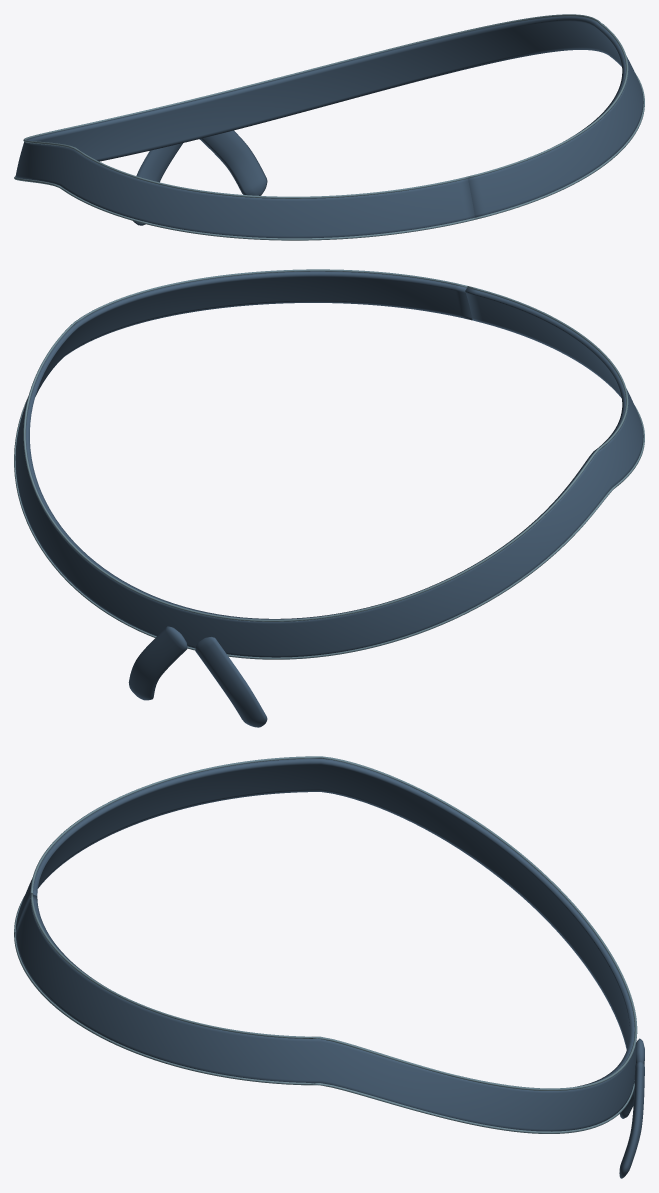
File: Feminine-headband-headgear.glb
3 renders of one model, top to bottom at view 1: azimuth 30°, elevation 25°; view 2: azimuth 150°, elevation 25°; view 3: azimuth 270°, elevation 25°, orthographic. The views are drawn at different scales.
Parts seen in each view (by area): view 1: 226 headgear / Headwear / fabric226, 226 headgear / Headwear / seam226; view 2: 226 headgear / Headwear / fabric226, 226 headgear / Headwear / seam226; view 3: 226 headgear / Headwear / fabric226, 226 headgear / Headwear / seam226.
Boxes of the visible parts, box(x1,y1,x2,y2) form: 226 headgear / Headwear / fabric226: box(15, 16, 643, 238); 226 headgear / Headwear / seam226: box(14, 14, 644, 240); 226 headgear / Headwear / fabric226: box(15, 271, 643, 727); 226 headgear / Headwear / seam226: box(14, 269, 644, 659); 226 headgear / Headwear / fabric226: box(15, 758, 644, 1178); 226 headgear / Headwear / seam226: box(14, 756, 637, 1133).
Bounding box in the file's own units: 0.9294 × 0.3695 × 0.8303.
